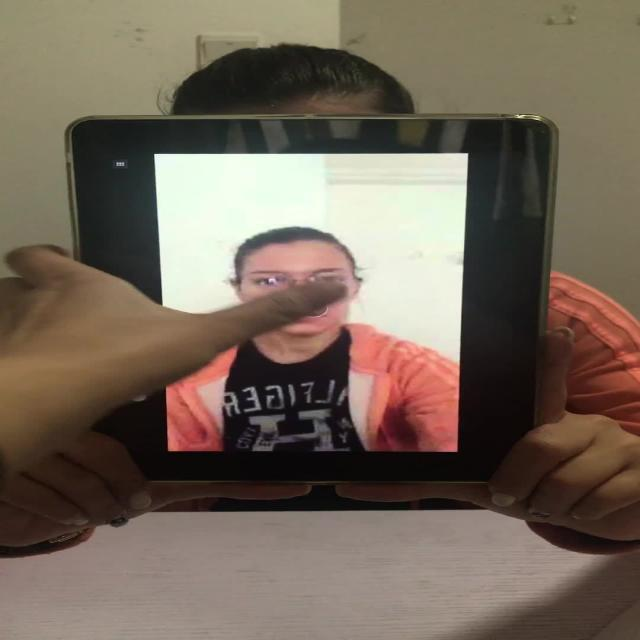device: (61, 113, 567, 492)
